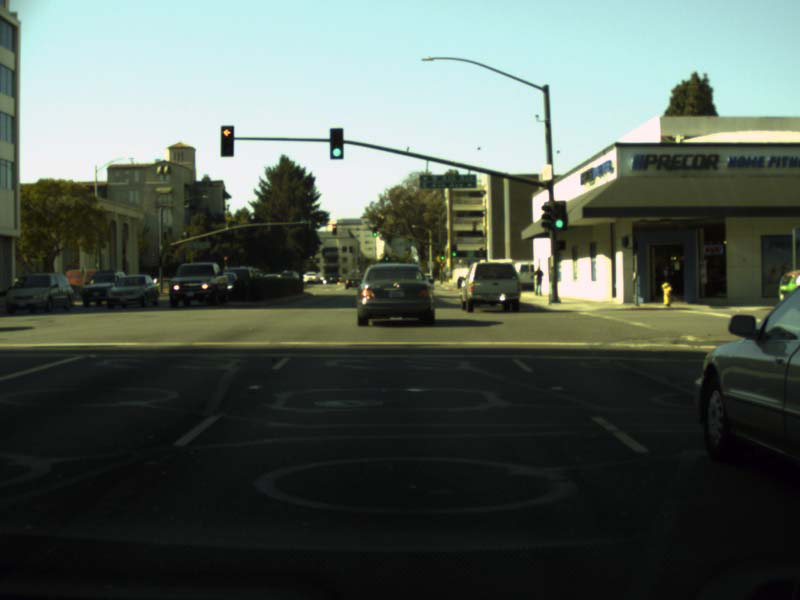Green: (330, 129, 342, 159), (553, 203, 565, 229), (451, 244, 457, 256), (440, 250, 444, 259), (384, 254, 388, 260), (372, 229, 376, 235)
Red: (222, 126, 233, 155), (332, 224, 335, 234)
